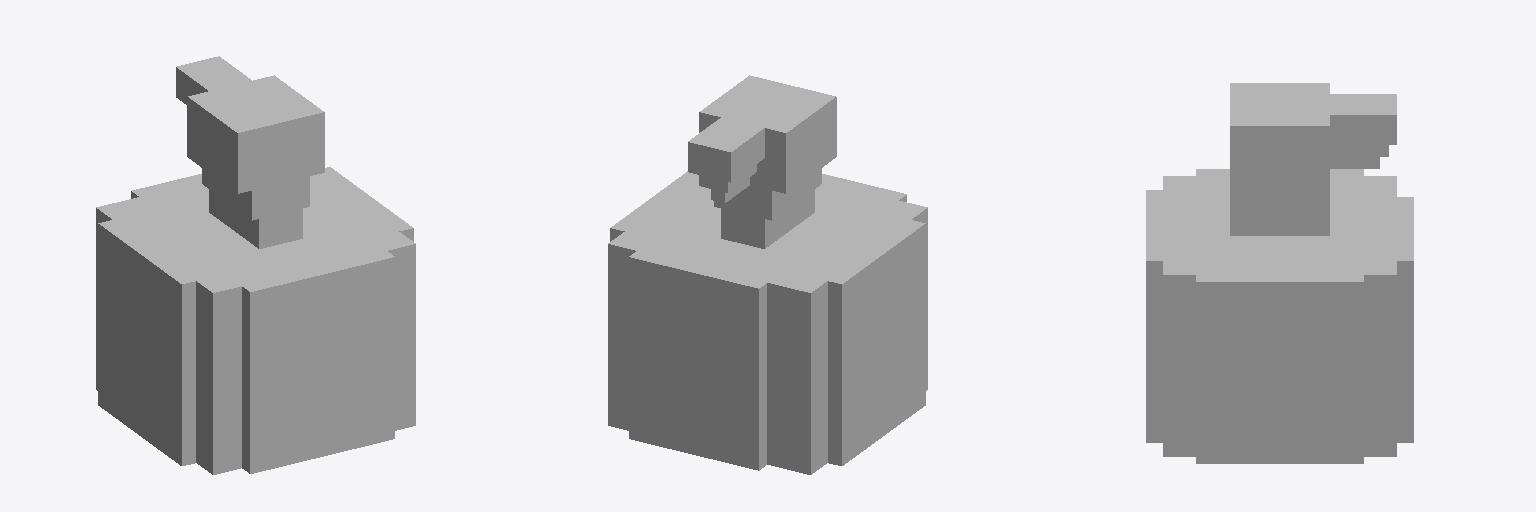
The model's file is Govnosmalanvil.obj.
The picture shows the model from 3 angles: view 1: azimuth 30°, elevation 25°; view 2: azimuth 150°, elevation 25°; view 3: azimuth 270°, elevation 25°; orthographic projection.
Visible parts, largest first — view 1: cube; view 2: cube; view 3: cube.
Part boxes in pixels (x1,y1,x2,y2): cube: (96, 56, 415, 474); cube: (608, 75, 927, 474); cube: (1146, 83, 1413, 463).
Size of the model in its own units: 1 by 1.25 by 1.